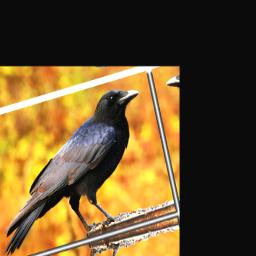Crow: (0, 80, 164, 256)
